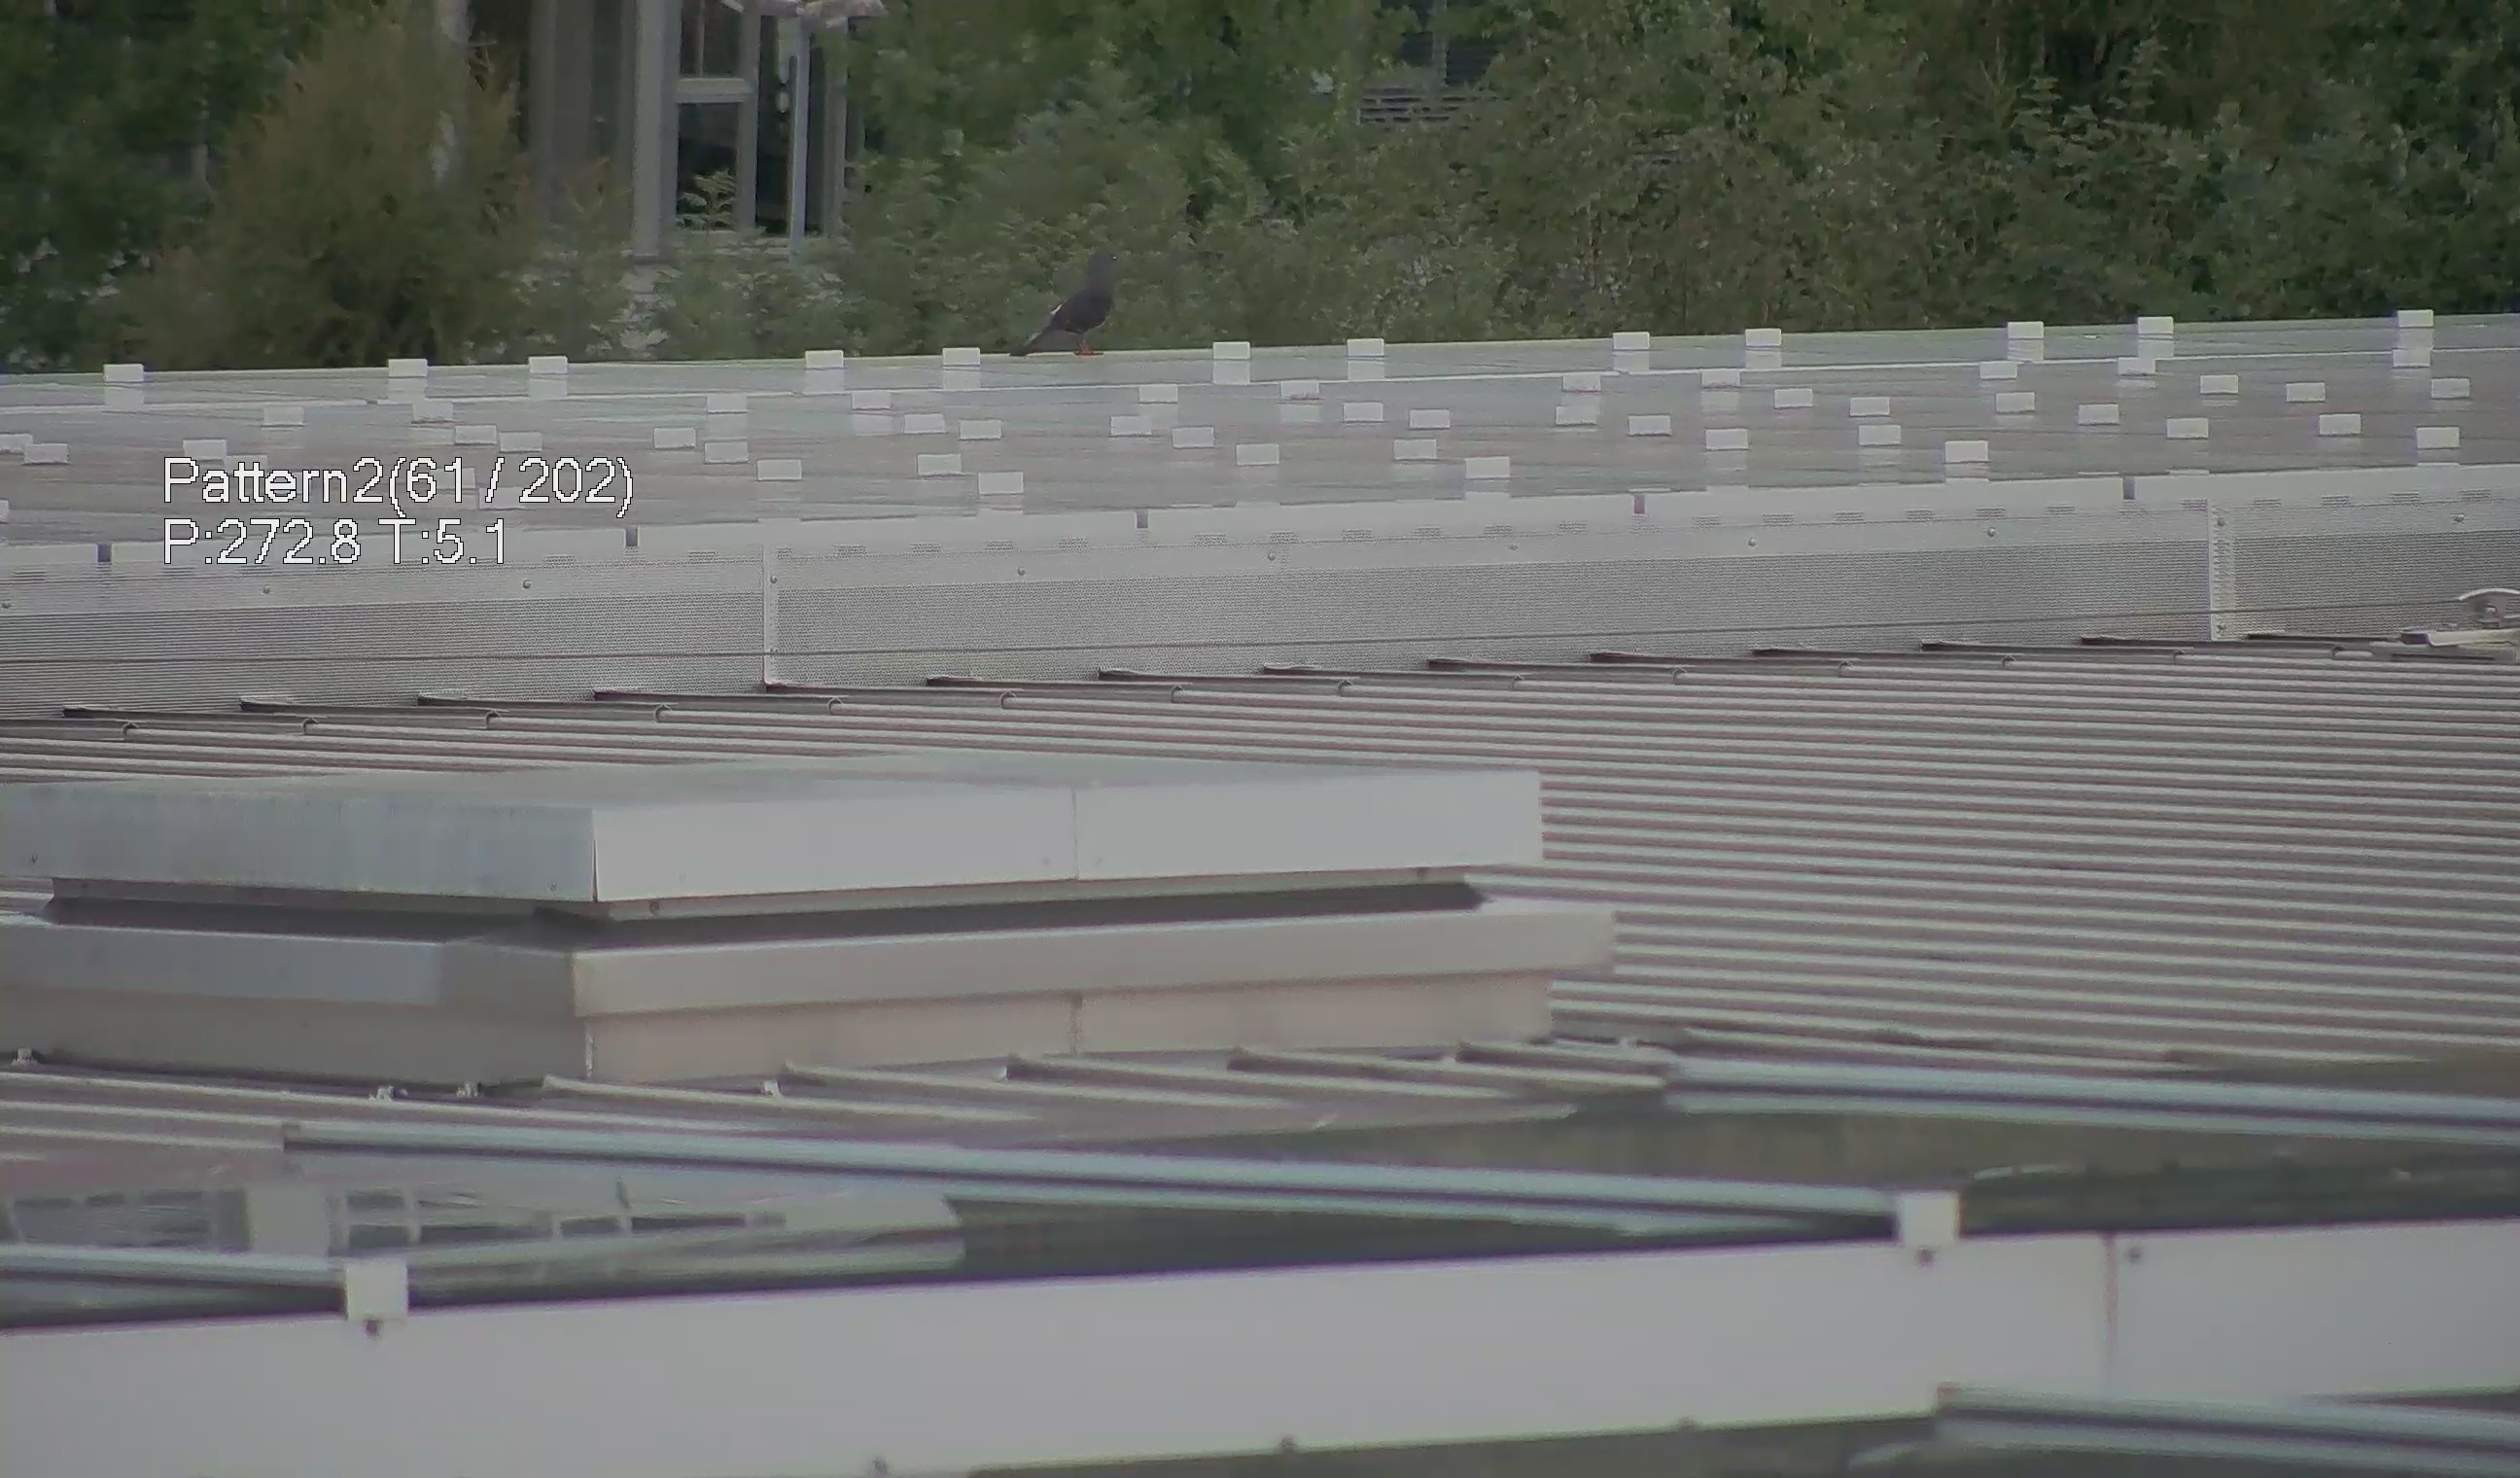Pigeon: (1013, 239, 1129, 359)
